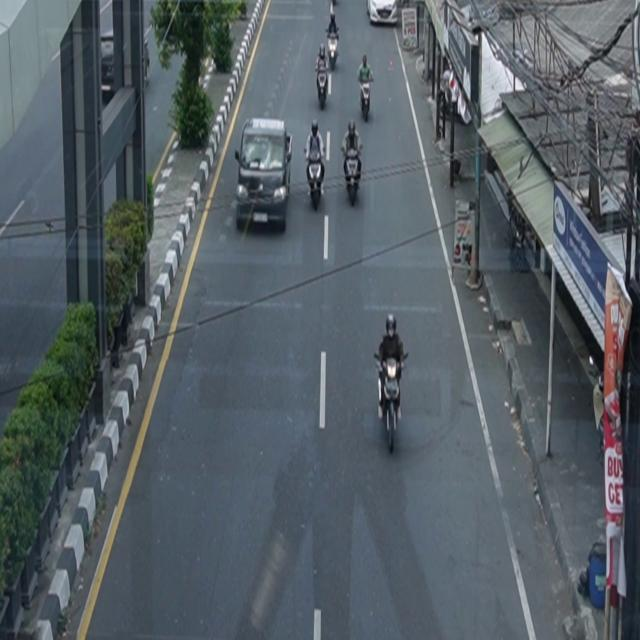car: (236, 117, 294, 232), (367, 1, 398, 26)
